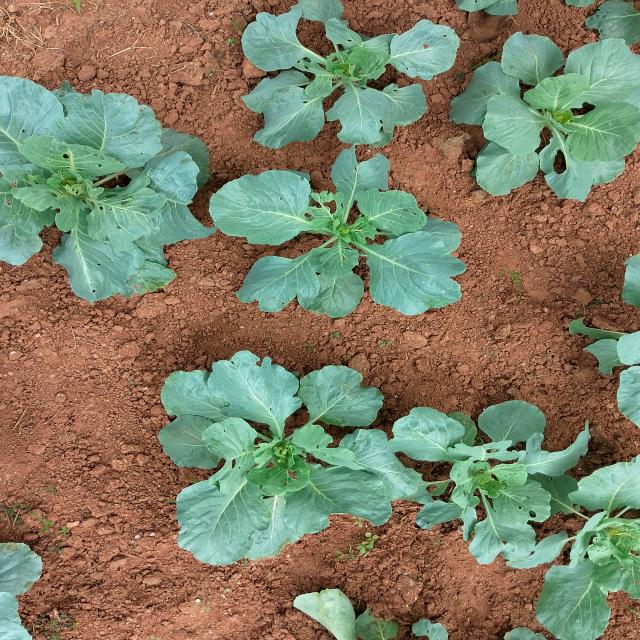Cabbage: (139, 338, 408, 564), (0, 56, 206, 297), (176, 168, 493, 324), (222, 0, 486, 172), (443, 39, 640, 213), (385, 401, 586, 569), (539, 446, 640, 640), (565, 242, 640, 448), (275, 597, 515, 640)
